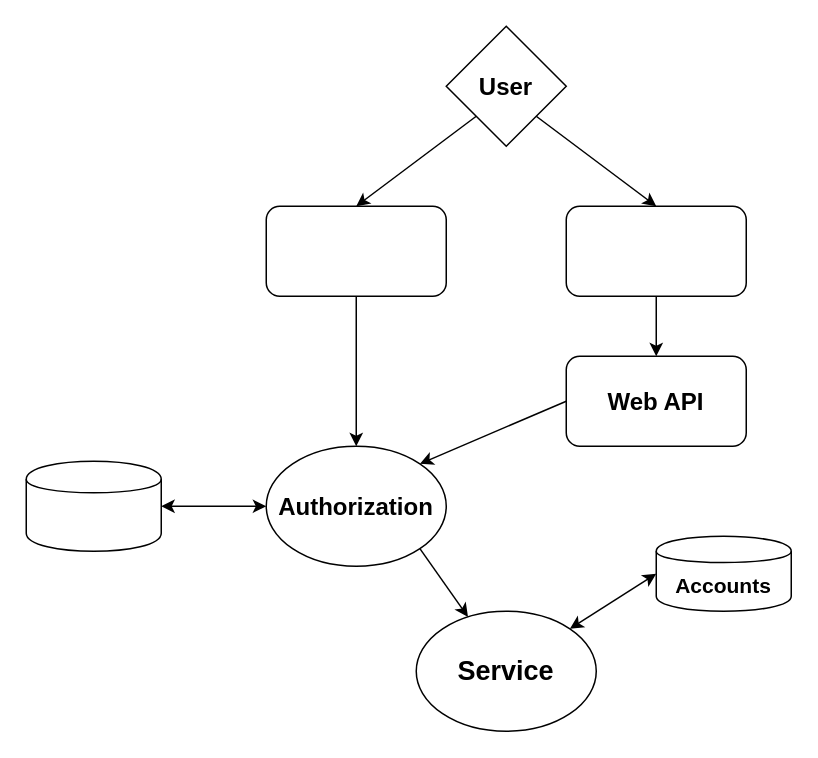
Image size: 818x758. Some labels were removed from this diagram. Here are the shapes that lost their labels. From the top down, the centre of each, then its label:
pixel 355 250: Web App
pixel 655 250: Mobile App
pixel 93 505: User Store
